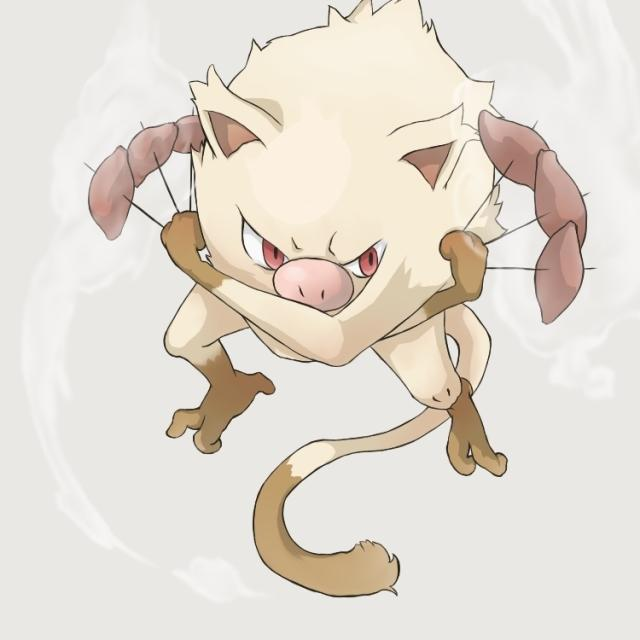Mankey: (152, 4, 558, 471)
